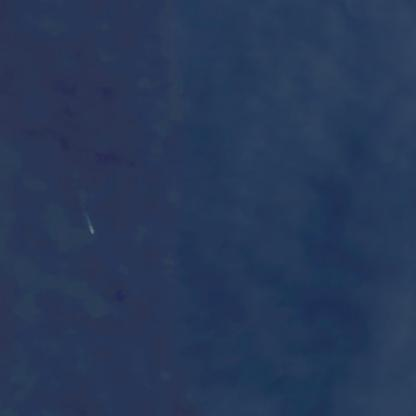ship: (84, 219, 96, 238)
